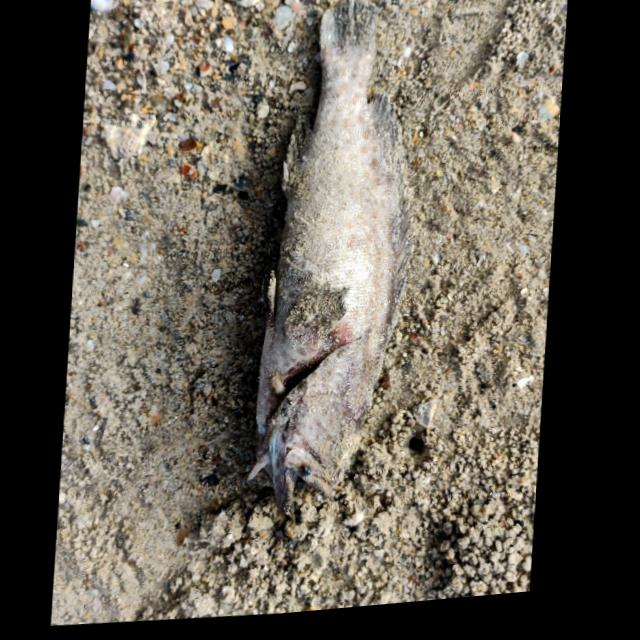Groupers: (247, 0, 421, 528)
